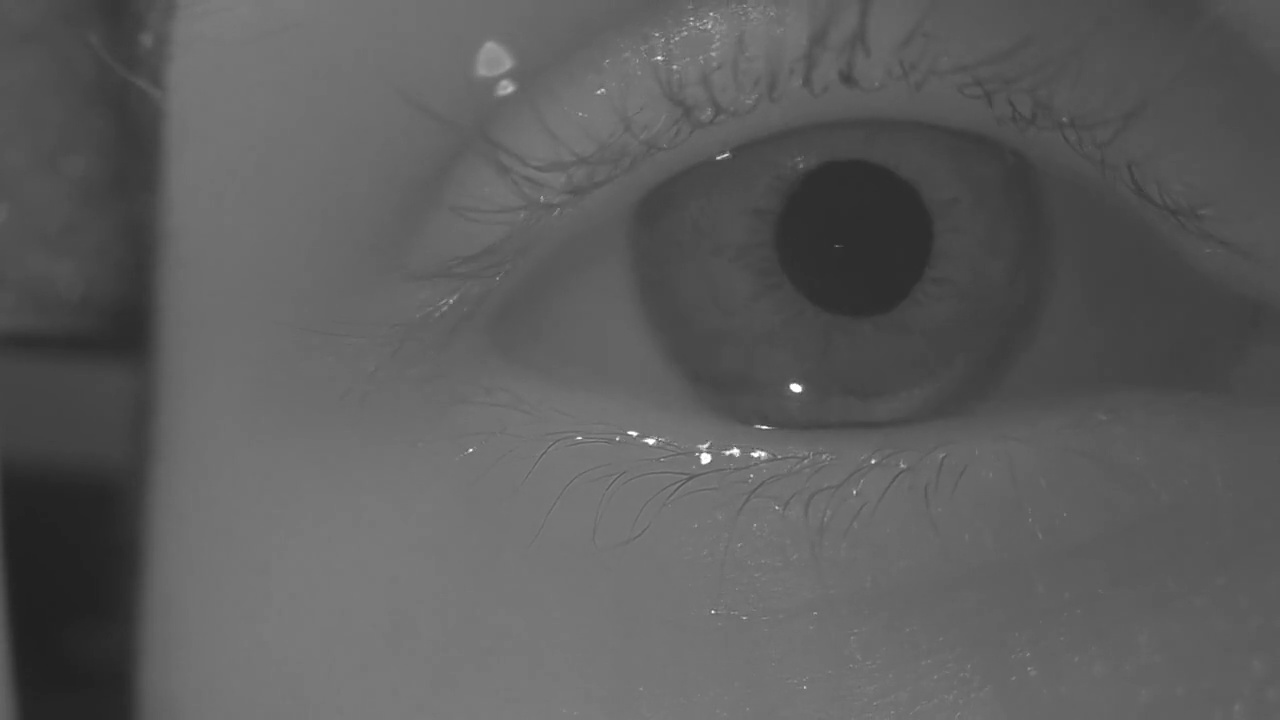pupil: (776, 160, 935, 320)
